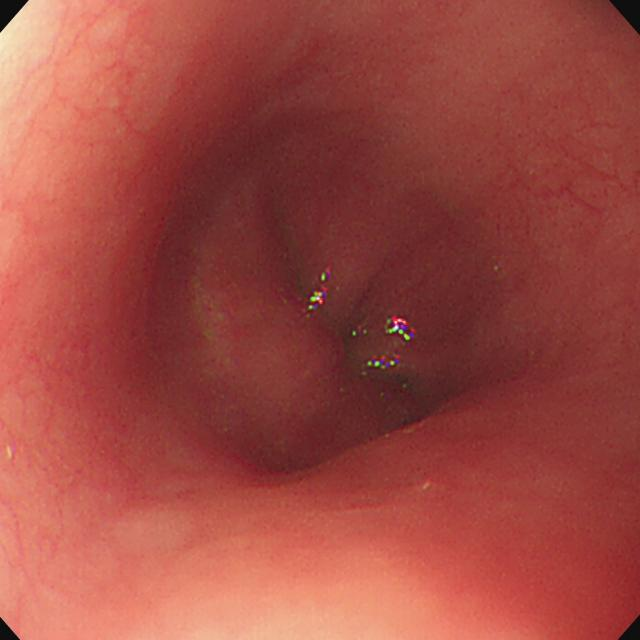U: (309, 268, 332, 314), (385, 316, 418, 343), (367, 355, 402, 370)
